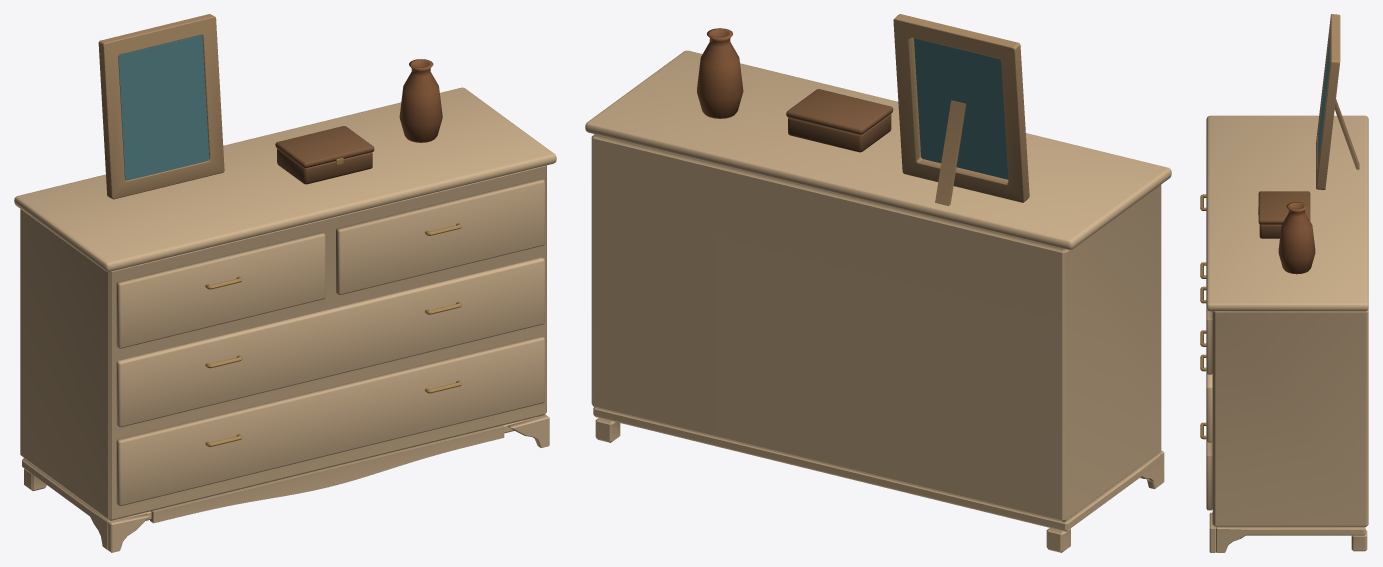
File: dresser.glb
3 views of the same model, side by side, from view 1: azimuth 30°, elevation 25°; view 2: azimuth 150°, elevation 25°; view 3: azimuth 270°, elevation 25° (orthographic). The views are drawn at different scales.
Parts seen in each view (by area): view 1: dresser, drawer; view 2: dresser; view 3: dresser, drawer.
Boxes of the visible parts, x1=… form: dresser: x1=14, y1=14, x2=556, y2=552; drawer: x1=116, y1=257, x2=544, y2=427; dresser: x1=585, y1=14, x2=1171, y2=552; dresser: x1=1200, y1=14, x2=1368, y2=552; drawer: x1=1200, y1=262, x2=1212, y2=442.
Size of the model in its own units: 1.44 by 1.35 by 0.54.
